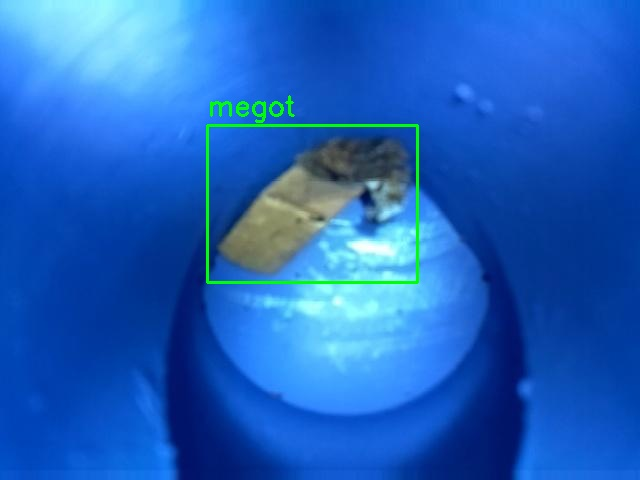megot: (207, 125, 417, 282)
